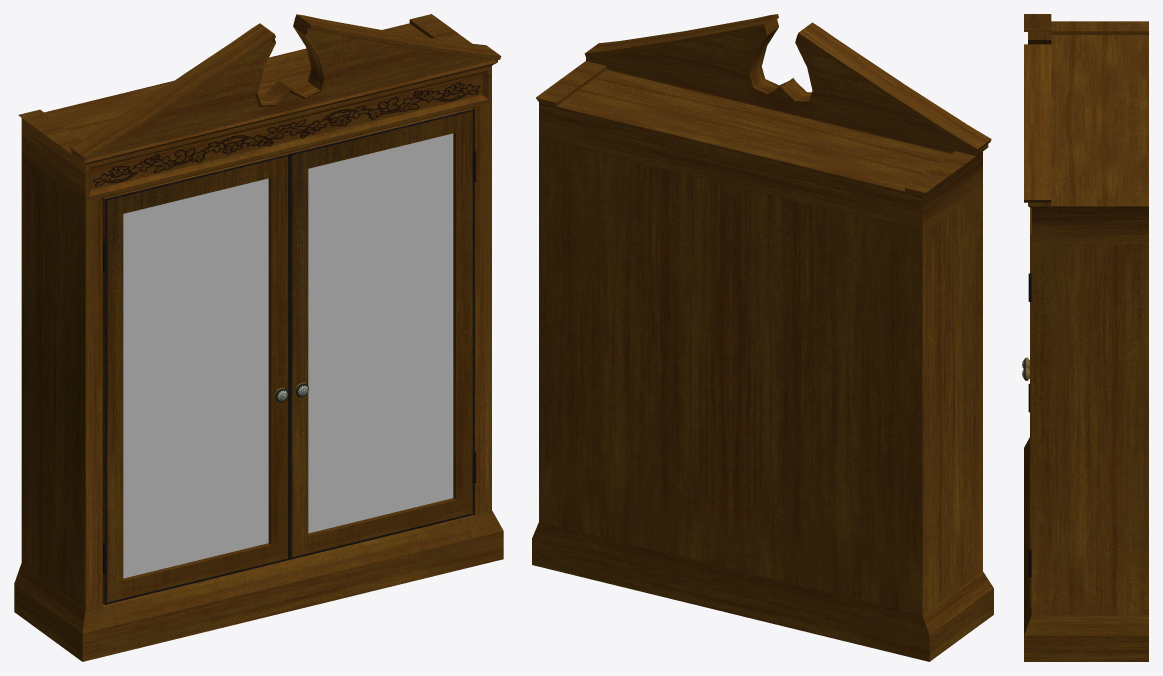
File: gun_cabinet.DAE
The picture shows the model from 3 angles, left to right: view 1: azimuth 30°, elevation 25°; view 2: azimuth 150°, elevation 25°; view 3: azimuth 270°, elevation 25°; orthographic projection. The views are drawn at different scales.
Parts seen in each view (by area): view 1: cabin, window_right, window_left, door_left, door_right; view 2: cabin; view 3: cabin, door_right.
Part boxes in pixels (box(x1,y1,x2,y2)): cabin: box(14, 14, 503, 661); window_right: box(308, 133, 453, 533); window_left: box(123, 178, 268, 578); door_left: box(103, 153, 289, 604); door_right: box(288, 107, 474, 559); cabin: box(532, 14, 993, 661); cabin: box(1024, 14, 1148, 661); door_right: box(1022, 207, 1031, 606).
Bounding box in the file's own units: 2.85 × 3.76 × 0.8118.
